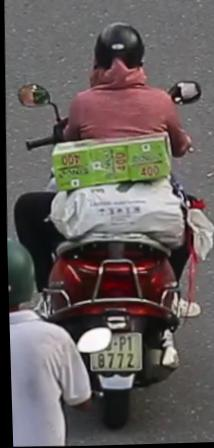LP: (98, 327, 144, 375)
helmet: (88, 18, 149, 95)
